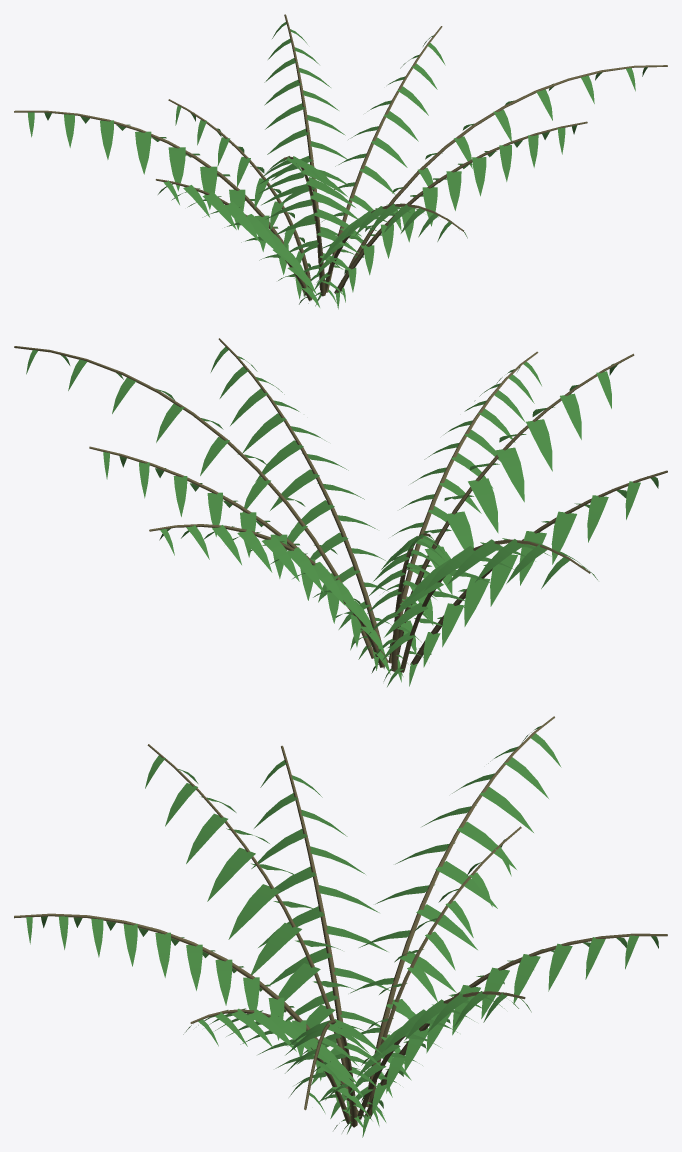
File: fern_2.fbx
The picture shows the model from 3 angles, top to bottom: view 1: azimuth 30°, elevation 25°; view 2: azimuth 150°, elevation 25°; view 3: azimuth 270°, elevation 25°; orthographic projection. The views are drawn at different scales.
Parts seen in each view (by area): view 1: fern_2; view 2: fern_2; view 3: fern_2.
Boxes of the visible parts, x1=… form: fern_2: x1=14, y1=14, x2=667, y2=309; fern_2: x1=14, y1=338, x2=667, y2=686; fern_2: x1=14, y1=716, x2=667, y2=1137.
Size of the model in its own units: 1.06 by 0.4192 by 0.8041.
